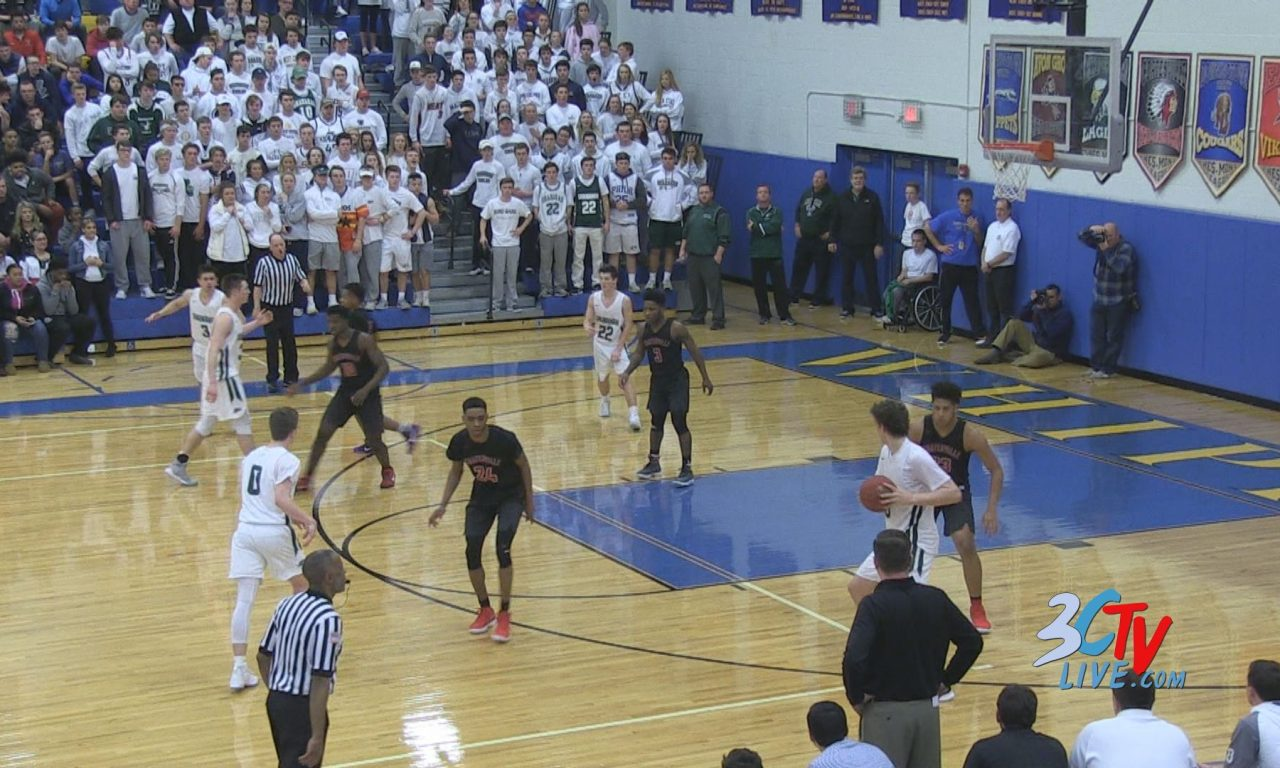basketball: (853, 466, 902, 516)
basketball player: (220, 403, 323, 696), (423, 395, 541, 646), (166, 271, 270, 495), (854, 396, 959, 592), (298, 309, 401, 500), (622, 294, 707, 499), (581, 264, 639, 437)
